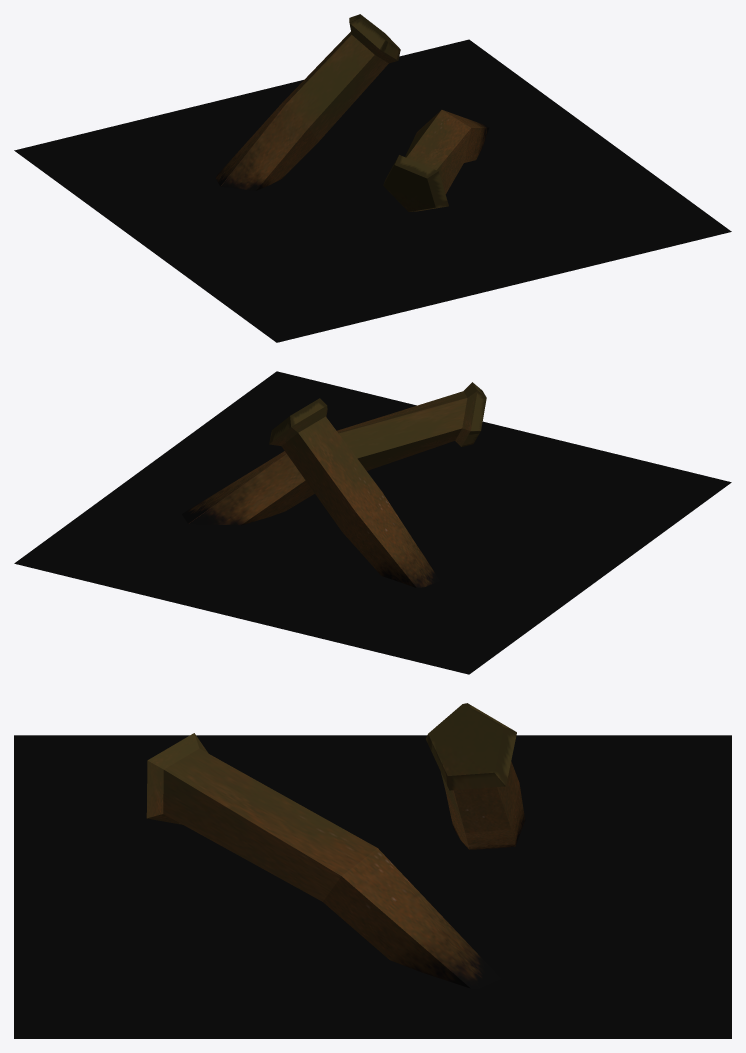
The model's file is pitFall_mid02.fbx.
3 renders of one model, top to bottom at view 1: azimuth 30°, elevation 25°; view 2: azimuth 150°, elevation 25°; view 3: azimuth 270°, elevation 25°, orthographic. The views are drawn at different scales.
Parts seen in each view (by area): view 1: pitFall_mid02; view 2: pitFall_mid02; view 3: pitFall_mid02.
Boxes of the visible parts, x1=… form: pitFall_mid02: x1=14, y1=14, x2=731, y2=342; pitFall_mid02: x1=14, y1=371, x2=731, y2=674; pitFall_mid02: x1=14, y1=703, x2=731, y2=1038.
Bounding box in the file's own units: 100 × 38.28 × 100.
